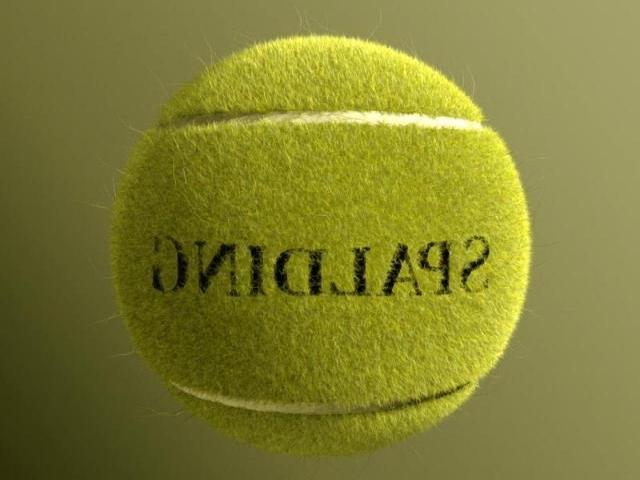tennis-ball: (108, 33, 533, 456)
